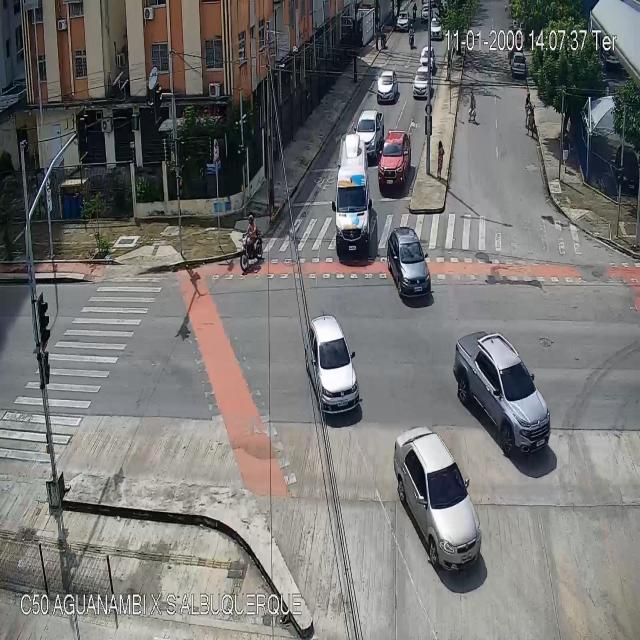Car: (393, 428, 480, 568), (456, 333, 551, 455), (304, 316, 361, 412), (333, 136, 373, 260), (386, 228, 432, 300), (378, 130, 412, 192), (354, 110, 384, 164), (376, 72, 397, 104), (413, 68, 430, 98), (419, 47, 436, 72), (430, 16, 442, 41), (511, 54, 524, 76), (397, 14, 409, 31)
Motorcycle: (240, 215, 264, 272), (409, 24, 415, 49), (412, 2, 418, 23)
